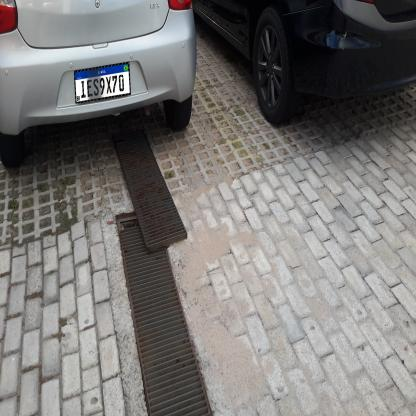PlacaM: (74, 61, 131, 104)
